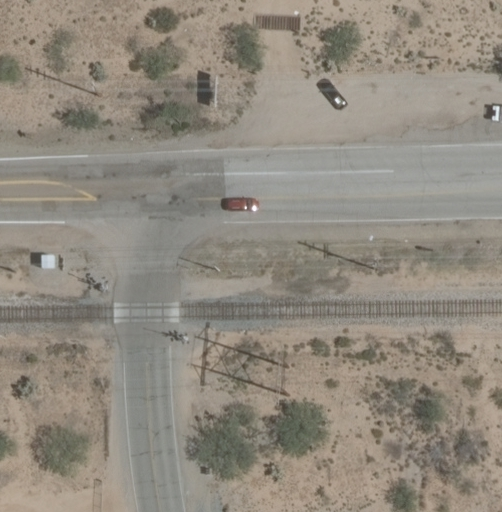DT: (367, 262, 379, 275)
TT: (272, 348, 296, 406), (88, 80, 105, 102)
